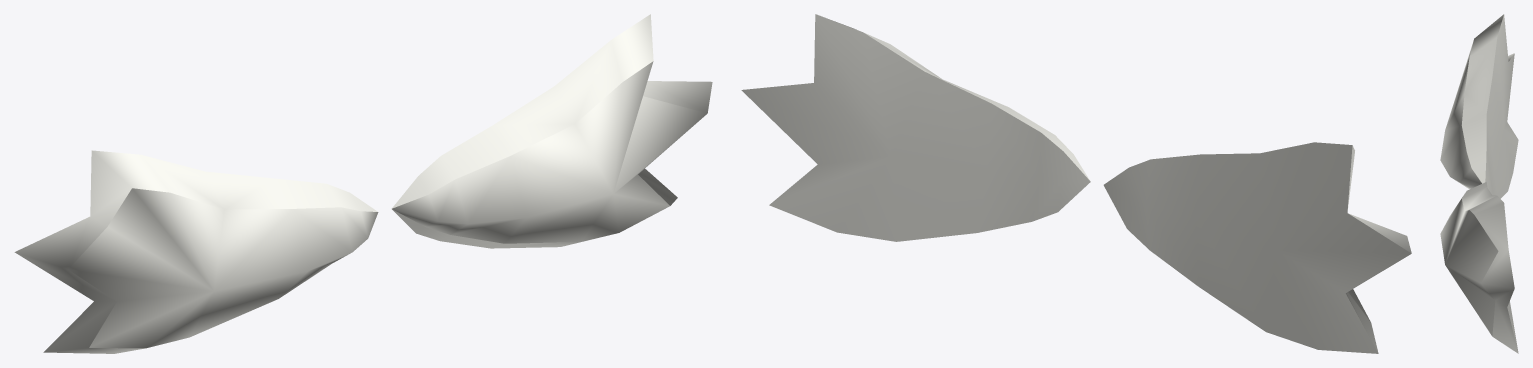
The model's file is Beard_White_8.fbx.
3 renders of one model, left to right at view 1: azimuth 30°, elevation 25°; view 2: azimuth 150°, elevation 25°; view 3: azimuth 270°, elevation 25°, orthographic. The views are drawn at different scales.
Parts seen in each view (by area): view 1: Beard_White_8; view 2: Beard_White_8; view 3: Beard_White_8.
Part boxes in pixels (box(x1,y1,x2,y2)): Beard_White_8: box(14, 14, 712, 353); Beard_White_8: box(741, 14, 1411, 353); Beard_White_8: box(1440, 14, 1518, 353).
Size of the model in its own units: 66.53 by 19.62 by 9.34.
